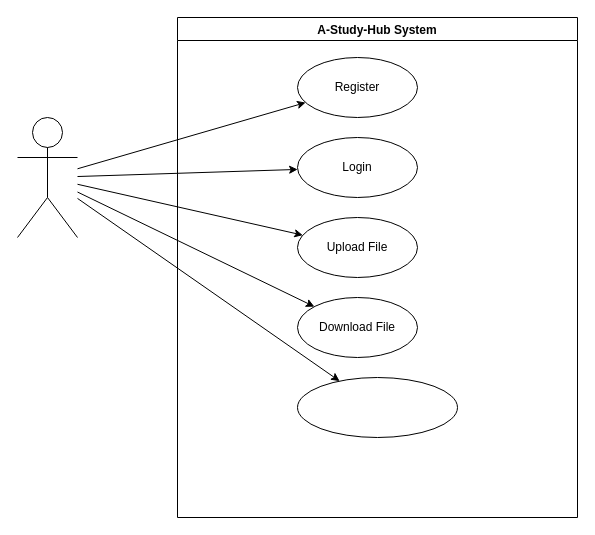
This 595x535 diagram has some shape labels left out. Here are the shapes that lost their labels. From the top down, the box of each, then its label:
(16, 116, 78, 238): User
(296, 376, 458, 438): Comment Document
